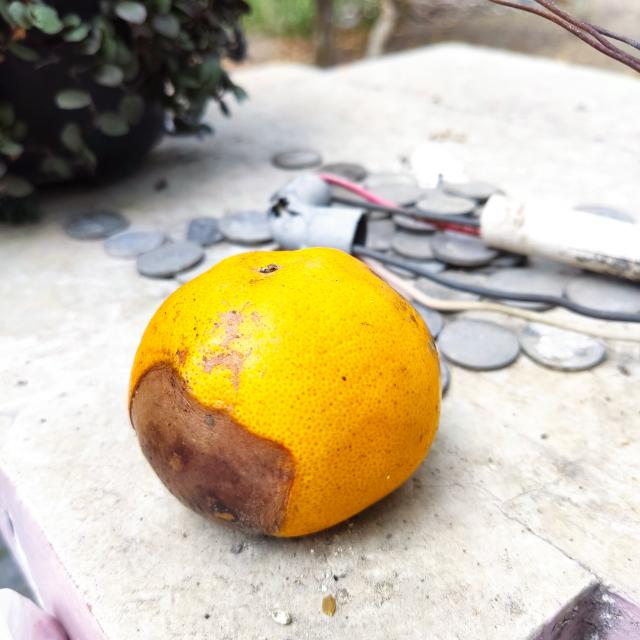orange: (121, 244, 445, 540)
